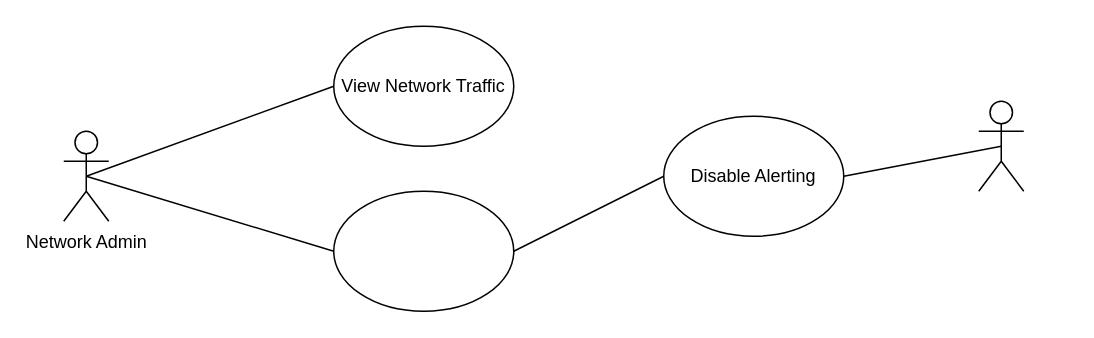
This 1094x338 diagram has some shape labels left out. The shapes that lost their labels are listed below. From the top down, each one's centre as x and y in pixels, then its label:
the point at 1000,145: Malicious Insider
the point at 423,250: View Alerts
